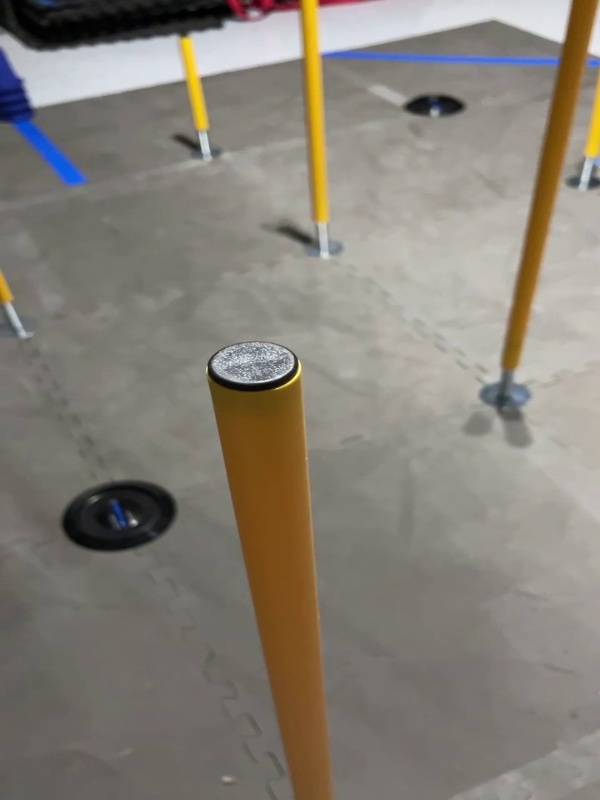top: (198, 335, 306, 402)
